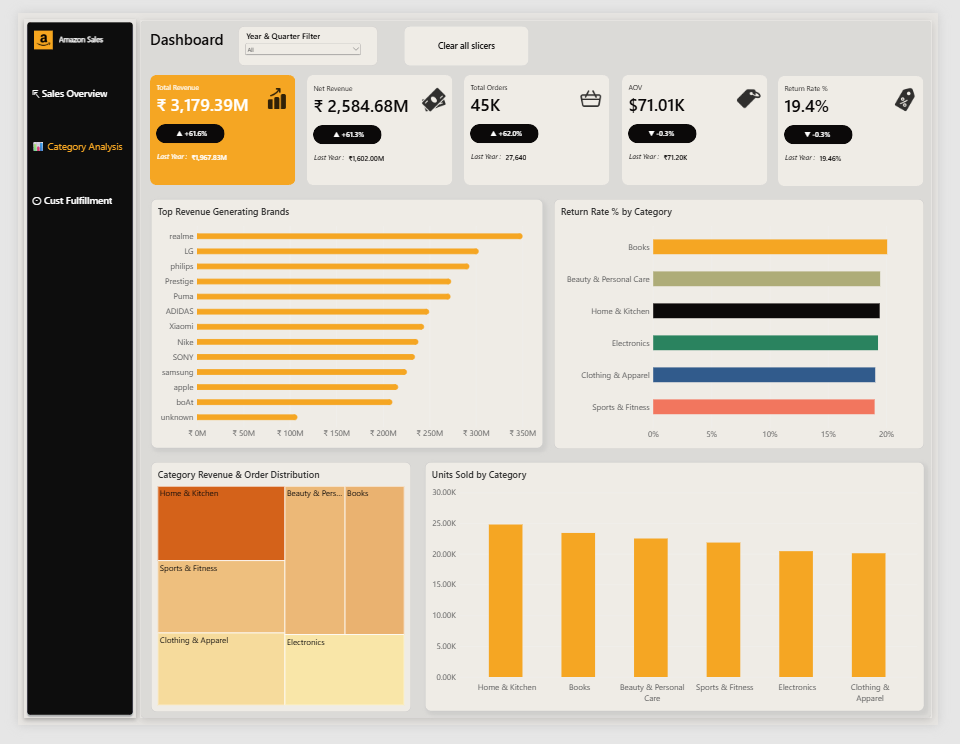

This screenshot's page, from the dashboard's own definition file:
{"tool":"powerbi","page":{"name":"📊 Category Analysis","canvas":[2300,1780],"ordinal":1},"visuals":[{"type":"shape","box":[15,15,280,1747.5],"z":0},{"type":"shape","box":[724,155.4,363.3,275.3],"z":0,"group":"g2"},{"type":"shape","box":[1510.1,155.4,363.3,275],"z":0,"group":"g9"},{"type":"group","id":"g1","title":"Group 2","box":[330.9,155.5,363.3,275],"z":0,"group":"g16"},{"type":"shape","box":[330.9,155.5,363.3,275],"z":0,"group":"g1"},{"type":"shape","box":[1117.1,156.2,363.3,275],"z":0,"group":"g3"},{"type":"shape","box":[1901.9,157,363.3,275],"z":0,"group":"g15"},{"type":"shape","box":[1525.5,275.7,171.7,48.3],"z":0,"group":"g4"},{"type":"shape","box":[346.3,275.8,171.7,48.3],"z":0,"group":"g5"},{"type":"shape","box":[1132.5,276.5,171.7,48.3],"z":0,"group":"g6"},{"type":"shape","box":[1917.3,277.3,171.7,48.3],"z":0,"group":"g7"},{"type":"shape","box":[739.4,279,171.7,48.3],"z":0,"group":"g8"},{"type":"shape","box":[1526.4,341.4,163,37],"z":0,"group":"g10"},{"type":"shape","box":[347.2,341.5,163,37],"z":0,"group":"g11"},{"type":"shape","box":[1133.4,342.2,163,37],"z":0,"group":"g12"},{"type":"shape","box":[1918.2,343,163,37],"z":0,"group":"g13"},{"type":"shape","box":[740.3,344.7,163,37],"z":0,"group":"g14"},{"type":"image","box":[40,40,46.7,55],"z":1000},{"type":"group","id":"g2","title":"Group 2","box":[724,155.4,363.3,275.3],"z":1000,"group":"g16"},{"type":"cardVisual","fields":{"Data":["Key_Measures.AOV"]},"box":[1510.1,155.4,363.3,120],"z":1000,"group":"g9"},{"type":"cardVisual","fields":{"Data":["Key_Measures.Total Revenue"]},"box":[330.9,155.5,363.3,120],"z":1000,"group":"g1"},{"type":"cardVisual","fields":{"Data":["Key_Measures.Total Orders"]},"box":[1117.1,156.2,363.3,120],"z":1000,"group":"g3"},{"type":"cardVisual","fields":{"Data":["Key_Measures.Return Rate %"]},"box":[1901.9,157,363.3,120],"z":1000,"group":"g15"},{"type":"cardVisual","fields":{"Data":["Key_Measures.Net Revenue"]},"box":[724,158.7,363.3,120],"z":1000,"group":"g2"},{"type":"cardVisual","fields":{"Data":["Key_Measures.AOV YoY % Label"]},"box":[1559.3,274.5,138.3,48.3],"z":1000,"group":"g4"},{"type":"cardVisual","fields":{"Data":["Key_Measures.Sales YoY % Label"]},"box":[380.1,274.6,138.3,48.3],"z":1000,"group":"g5"},{"type":"cardVisual","fields":{"Data":["Key_Measures.Orders YoY % Label"]},"box":[1166.3,275.3,138.3,48.3],"z":1000,"group":"g6"},{"type":"cardVisual","fields":{"Data":["Key_Measures.Return Rate YoY % Label"]},"box":[1951.1,276.1,138.3,48.3],"z":1000,"group":"g7"},{"type":"cardVisual","fields":{"Data":["Key_Measures.Net Revenue YoY % Label"]},"box":[773.2,277.8,138.3,48.3],"z":1000,"group":"g8"},{"type":"cardVisual","fields":{"Data":["Key_Measures.AOV PY Clean"]},"box":[1597.2,335.4,216.7,48.3],"z":1000,"group":"g10"},{"type":"cardVisual","fields":{"Data":["Key_Measures.Last Year Label"]},"box":[418,335.5,216.7,48.3],"z":1000,"group":"g11"},{"type":"cardVisual","fields":{"Data":["Key_Measures.Orders PY Clean"]},"box":[1204.2,336.2,216.7,48.3],"z":1000,"group":"g12"},{"type":"cardVisual","fields":{"Data":["Key_Measures.Return Rate PY Clean"]},"box":[1989,337,216.7,48.3],"z":1000,"group":"g13"},{"type":"cardVisual","fields":{"Data":["Key_Measures.Net Revenue PY Clean"]},"box":[811.1,338.7,216.7,48.3],"z":1000,"group":"g14"},{"type":"textbox","box":[101.4,52.8,180,51.7],"z":2000},{"type":"group","id":"g3","title":"Group 2","box":[1117.1,156.2,363.3,275],"z":2000,"group":"g16"},{"type":"group","id":"g4","title":"YOY_Label","box":[1525.5,274.5,172.1,49.6],"z":2000,"group":"g9"},{"type":"group","id":"g5","title":"YOY_Label","box":[346.3,274.6,172.1,49.6],"z":2000,"group":"g1"},{"type":"group","id":"g6","title":"YOY_Label","box":[1132.5,275.3,172.1,49.6],"z":2000,"group":"g3"},{"type":"group","id":"g7","title":"YOY_Label","box":[1917.3,276.1,172.1,49.6],"z":2000,"group":"g15"},{"type":"group","id":"g8","title":"YOY_Label","box":[739.4,277.8,172.1,49.6],"z":2000,"group":"g2"},{"type":"shape","box":[305,17.5,1980,1745],"z":3000},{"type":"group","id":"g9","title":"Group 2","box":[1510.1,155.4,362,276],"z":3000,"group":"g16"},{"type":"group","id":"g10","title":"LY_label","box":[1526.4,335.4,287.4,48.3],"z":3000,"group":"g9"},{"type":"group","id":"g11","title":"LY_label","box":[347.2,335.5,287.4,48.3],"z":3000,"group":"g1"},{"type":"group","id":"g12","title":"LY_label","box":[1133.4,336.2,287.4,48.3],"z":3000,"group":"g3"},{"type":"group","id":"g13","title":"LY_label","box":[1918.2,337,287.4,48.3],"z":3000,"group":"g15"},{"type":"group","id":"g14","title":"LY_label","box":[740.3,338.7,287.4,48.3],"z":3000,"group":"g2"},{"type":"textbox","box":[330,40,376.7,61.7],"z":4000},{"type":"group","id":"g15","title":"Group 2","box":[1901.9,157,362,276],"z":4000,"group":"g16"},{"type":"group","id":"g16","title":"KPI_Cards","box":[330.9,155.4,1933,277.6],"z":5000},{"type":"clusteredBarChart","title":"Top Revenue Generating Brands","fields":{"Category":["dim_product.brand"],"Y":["Key_Measures.Total Revenue"]},"box":[332.5,465,980,622.5],"z":6000},{"type":"group","id":"g17","title":"Year_Filter","box":[550,32.5,350,307.5],"z":7000},{"type":"shape","box":[550,32.5,350,100],"z":8000,"group":"g17"},{"type":"clusteredBarChart","title":"Return Rate % by Category","fields":{"Category":["dim_product.category"],"Y":["Key_Measures.Return Rate %"]},"box":[1340,465,925,625],"z":8000},{"type":"slicer","fields":{"Values":["dim_date.order_year","dim_date.quarter_of_year"]},"box":[562.5,41.7,300,300],"z":8500,"group":"g17"},{"type":"columnChart","title":"Units Sold by Category","fields":{"Category":["dim_product.category"],"Y":["Key_Measures.Total Unit Sold"]},"box":[1017.5,1122.5,1247.5,622.5],"z":9000},{"type":"treemap","title":"Category Revenue & Order Distribution","fields":{"Group":["dim_product.category"],"Values":["Key_Measures.AOV"]},"box":[332.5,1122.5,650,625],"z":10000},{"type":"actionButton","box":[965,33,312,100],"z":11000},{"type":"pageNavigator","box":[22.5,137.5,340,395],"z":11001}]}

Visuals, with their boxes on the page's 2300x1780 design canvas (x1, y1, x2, y2). These are canvas units, not pixel positions in the 960x744 screenshot, which may show the page scaled, cropped or inside an application window:
shape: region(15, 15, 295, 1762)
shape: region(724, 155, 1087, 431)
shape: region(1510, 155, 1873, 430)
"Group 2" group: region(331, 156, 694, 430)
shape: region(331, 156, 694, 430)
shape: region(1117, 156, 1480, 431)
shape: region(1902, 157, 2265, 432)
shape: region(1526, 276, 1697, 324)
shape: region(346, 276, 518, 324)
shape: region(1132, 276, 1304, 325)
shape: region(1917, 277, 2089, 326)
shape: region(739, 279, 911, 327)
shape: region(1526, 341, 1689, 378)
shape: region(347, 342, 510, 378)
shape: region(1133, 342, 1296, 379)
shape: region(1918, 343, 2081, 380)
shape: region(740, 345, 903, 382)
image: region(40, 40, 87, 95)
"Group 2" group: region(724, 155, 1087, 431)
cardVisual - Key_Measures.AOV: region(1510, 155, 1873, 275)
cardVisual - Key_Measures.Total Revenue: region(331, 156, 694, 276)
cardVisual - Key_Measures.Total Orders: region(1117, 156, 1480, 276)
cardVisual - Key_Measures.Return Rate %: region(1902, 157, 2265, 277)
cardVisual - Key_Measures.Net Revenue: region(724, 159, 1087, 279)
cardVisual - Key_Measures.AOV YoY % Label: region(1559, 274, 1698, 323)
cardVisual - Key_Measures.Sales YoY % Label: region(380, 275, 518, 323)
cardVisual - Key_Measures.Orders YoY % Label: region(1166, 275, 1305, 324)
cardVisual - Key_Measures.Return Rate YoY % Label: region(1951, 276, 2089, 324)
cardVisual - Key_Measures.Net Revenue YoY % Label: region(773, 278, 912, 326)
cardVisual - Key_Measures.AOV PY Clean: region(1597, 335, 1814, 384)
cardVisual - Key_Measures.Last Year Label: region(418, 336, 635, 384)
cardVisual - Key_Measures.Orders PY Clean: region(1204, 336, 1421, 384)
cardVisual - Key_Measures.Return Rate PY Clean: region(1989, 337, 2206, 385)
cardVisual - Key_Measures.Net Revenue PY Clean: region(811, 339, 1028, 387)
textbox: region(101, 53, 281, 104)
"Group 2" group: region(1117, 156, 1480, 431)
"YOY_Label" group: region(1526, 274, 1698, 324)
"YOY_Label" group: region(346, 275, 518, 324)
"YOY_Label" group: region(1132, 275, 1305, 325)
"YOY_Label" group: region(1917, 276, 2089, 326)
"YOY_Label" group: region(739, 278, 912, 327)
shape: region(305, 18, 2285, 1762)
"Group 2" group: region(1510, 155, 1872, 431)
"LY_label" group: region(1526, 335, 1814, 384)
"LY_label" group: region(347, 336, 635, 384)
"LY_label" group: region(1133, 336, 1421, 384)
"LY_label" group: region(1918, 337, 2206, 385)
"LY_label" group: region(740, 339, 1028, 387)
textbox: region(330, 40, 707, 102)
"Group 2" group: region(1902, 157, 2264, 433)
"KPI_Cards" group: region(331, 155, 2264, 433)
"Top Revenue Generating Brands" clusteredBarChart: region(332, 465, 1312, 1088)
"Year_Filter" group: region(550, 32, 900, 340)
shape: region(550, 32, 900, 132)
"Return Rate % by Category" clusteredBarChart: region(1340, 465, 2265, 1090)
slicer - dim_date.order_year x dim_date.quarter_of_year: region(562, 42, 862, 342)
"Units Sold by Category" columnChart: region(1018, 1122, 2265, 1745)
"Category Revenue & Order Distribution" treemap: region(332, 1122, 982, 1748)
actionButton: region(965, 33, 1277, 133)
pageNavigator: region(22, 138, 362, 532)
